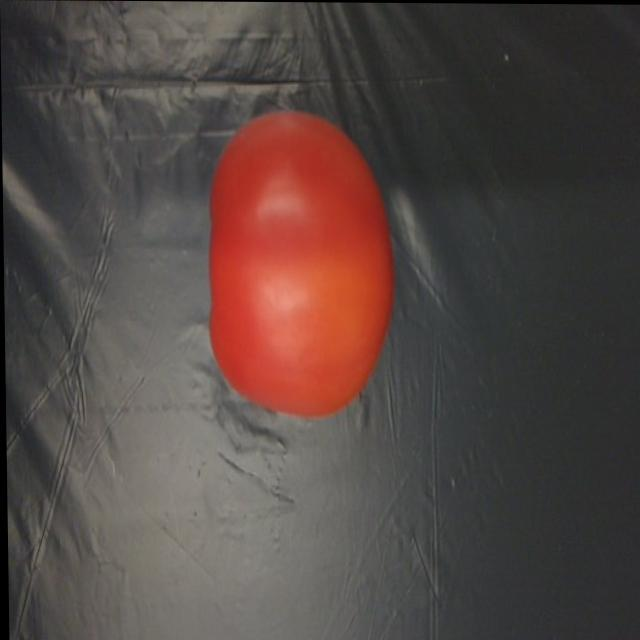kirmizi: (201, 102, 398, 421)
